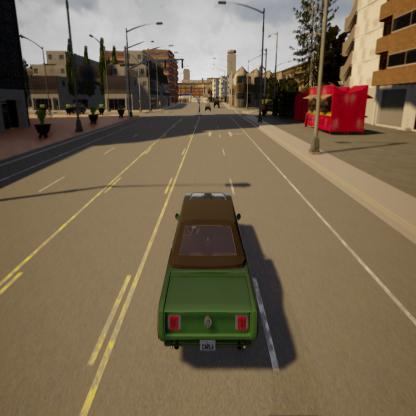Cars: (145, 176, 267, 370)
